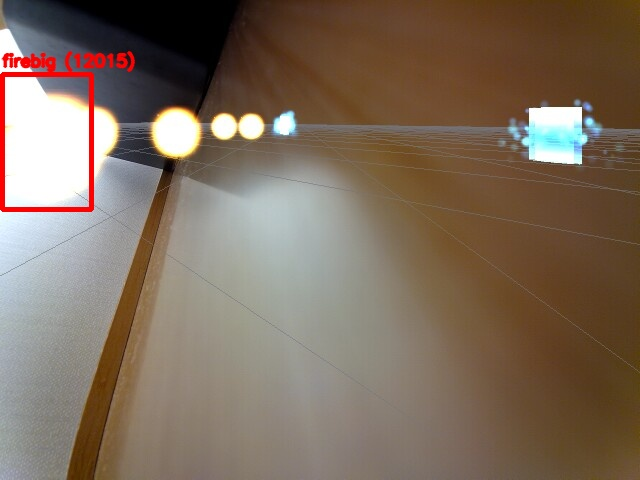firebig: (2, 74, 91, 209)
